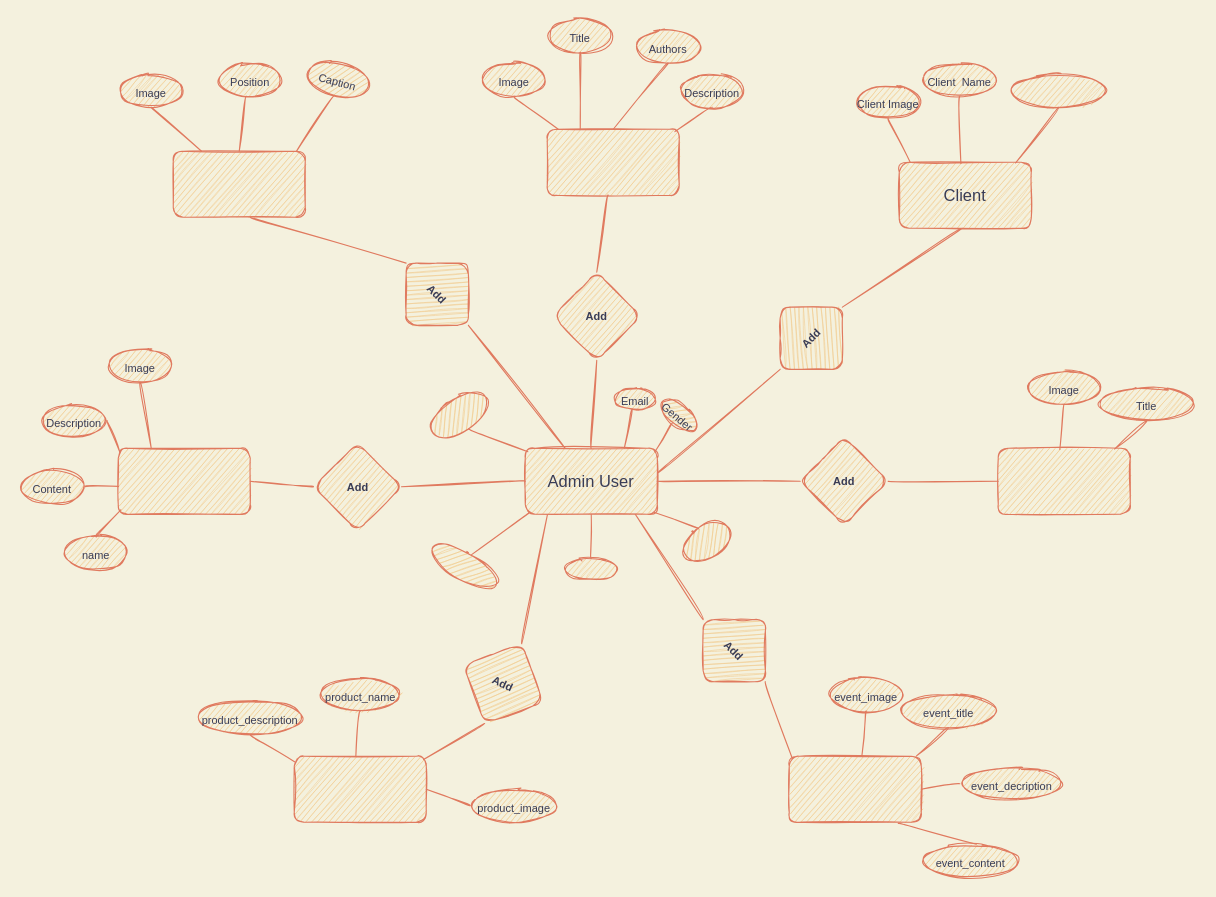
The diagram is 1216 pixels wide and 897 high, and some of its shapes have lost their labels. Here are the shapes that lost their labels. From the top down, the box of each, then its label:
(1008, 73, 1108, 107): Client Description
(546, 128, 679, 195): Testimonial
(172, 150, 305, 217): Slider
(421, 381, 496, 448): Full_name
(117, 447, 250, 514): Sister Concern
(997, 447, 1130, 514): Services
(673, 512, 739, 571): Username
(423, 534, 505, 598): Profile_Image
(563, 557, 619, 580): Password
(293, 755, 426, 822): Product
(788, 755, 921, 822): Event
